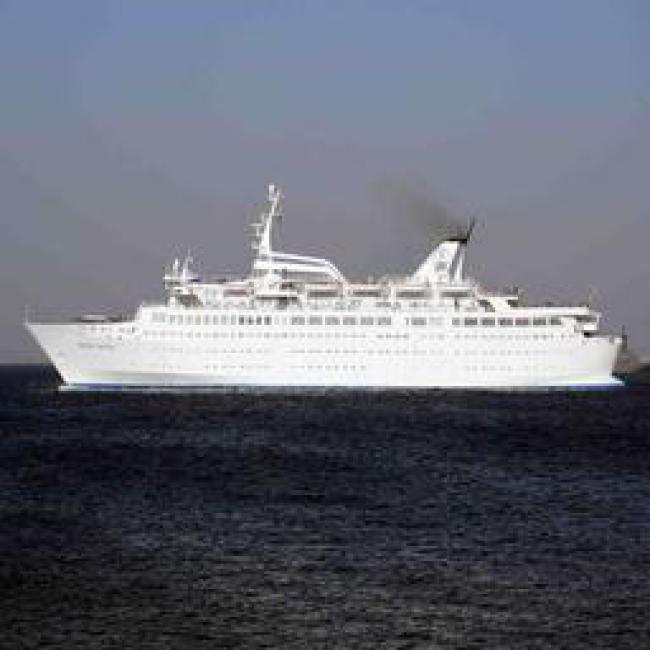Ship: (34, 232, 634, 393)
